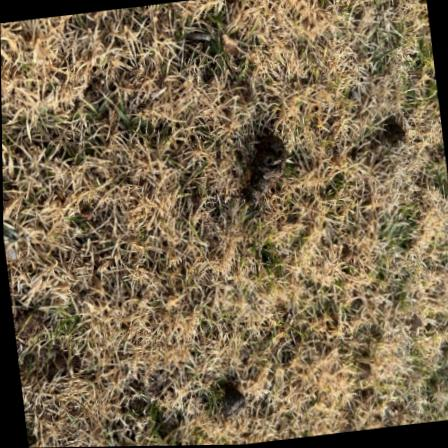dog-poop: (220, 125, 295, 209)
